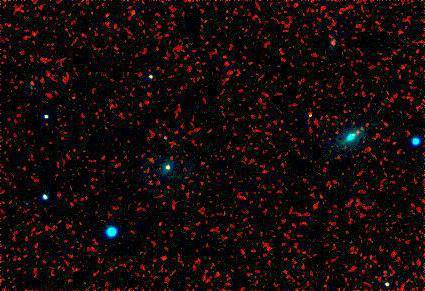star: (147, 125, 177, 155)
